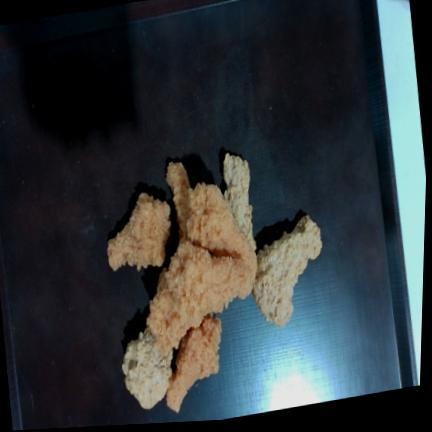chicken: (252, 215, 322, 326), (166, 241, 255, 322), (186, 183, 256, 283), (166, 314, 221, 412), (107, 192, 171, 270), (122, 327, 172, 408), (223, 153, 256, 250)
